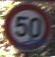Speed Limit -50-: (0, 1, 54, 56)
